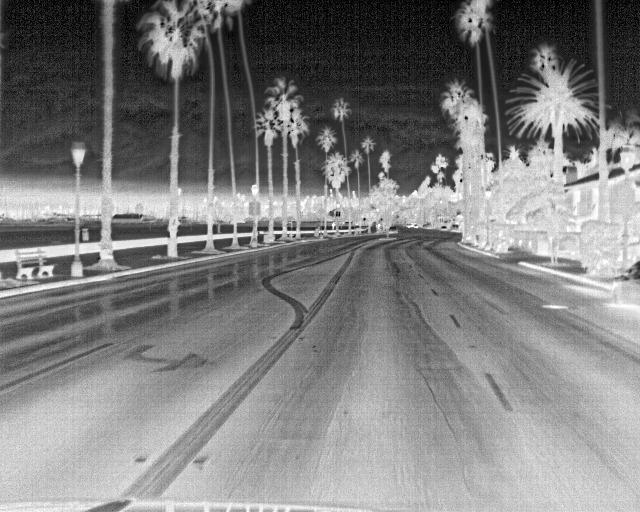car: (611, 262, 638, 306), (448, 222, 460, 234), (387, 225, 398, 235)
